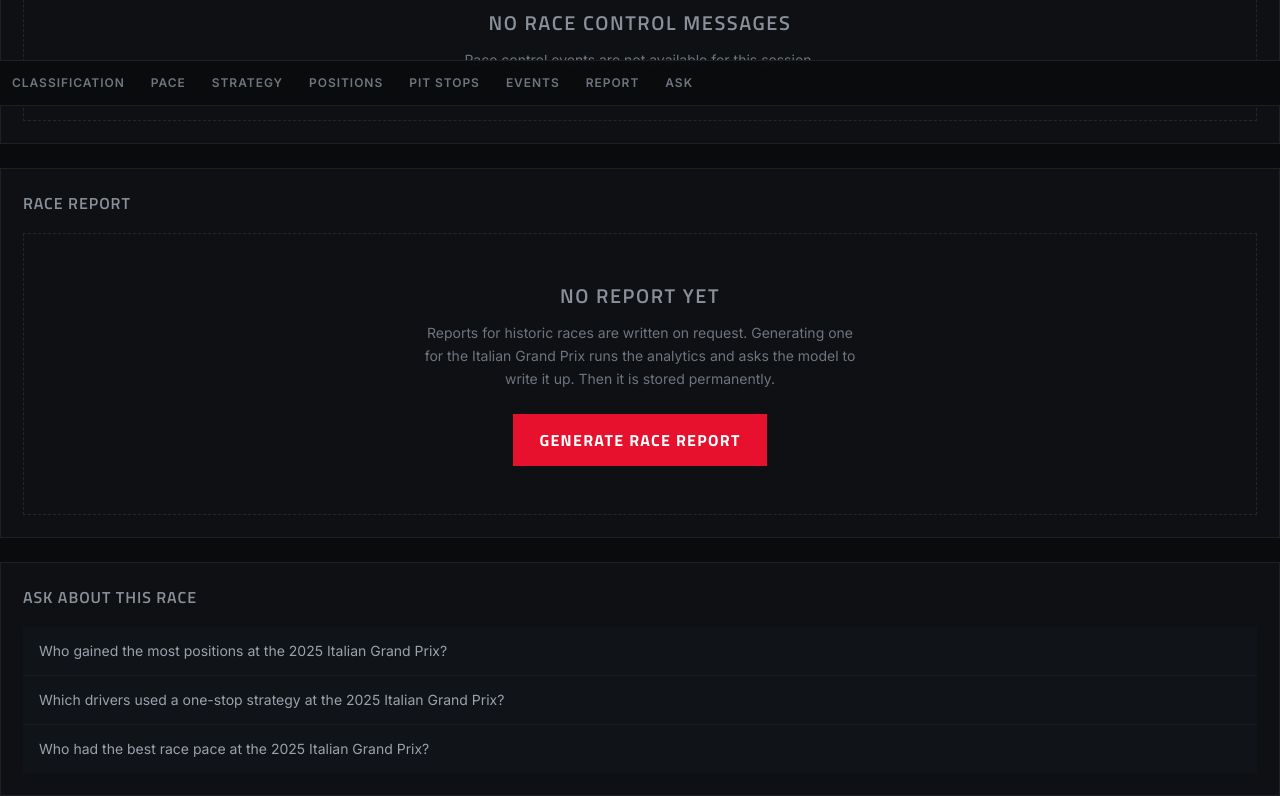
Test: Race detail › generates a missing report through a job, then shows it
The width and height of the screenshot is (1280, 796).
(page scrolled)
Click the button "Generate race report" at (640, 440), box [513,414,767,466]
(page scrolled)
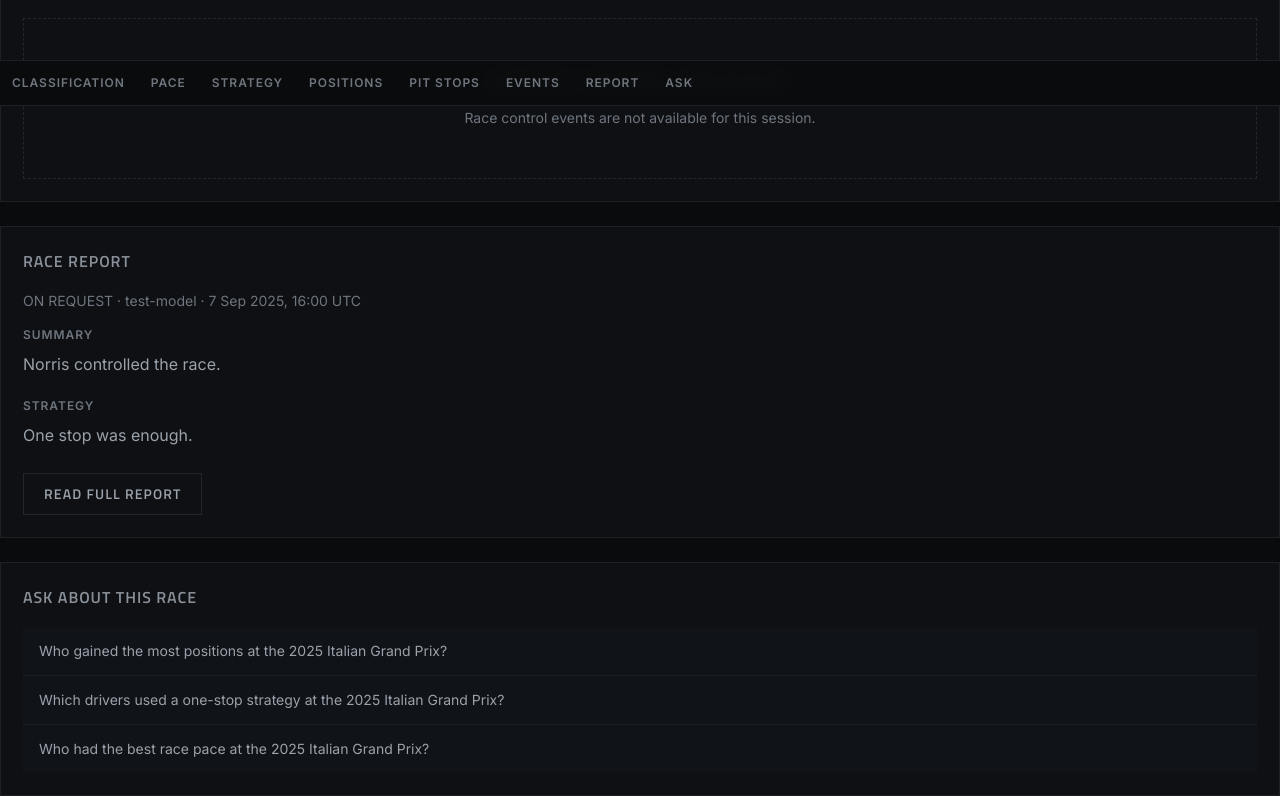
Expected: the text "Norris controlled the race." is shown, [23,354,221,374]
